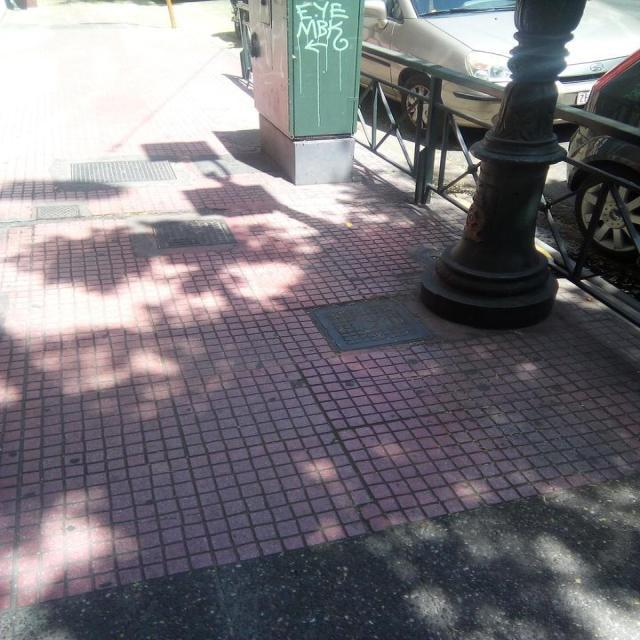nonspitting: (296, 2, 349, 52)
